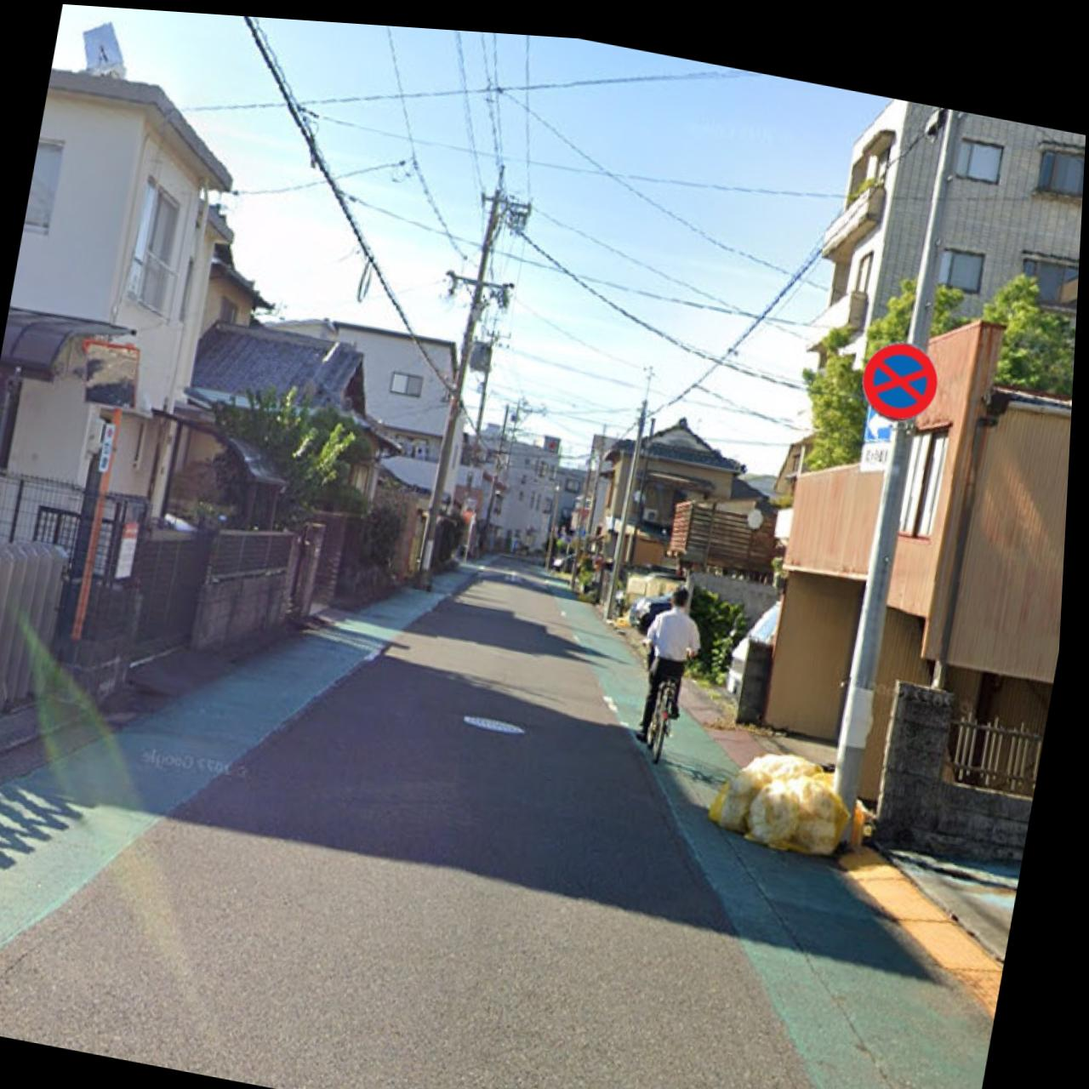stop_sign: (857, 334, 942, 425)
